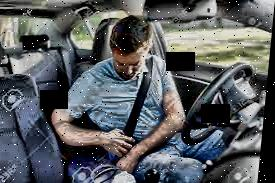seatbelt: (111, 46, 168, 161)
